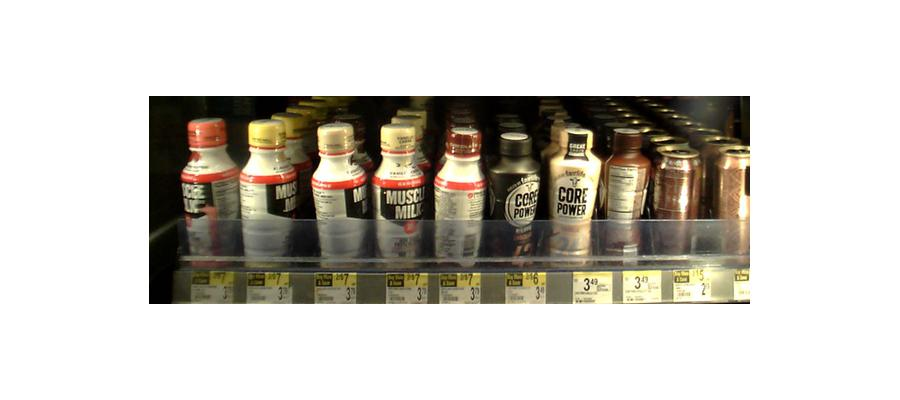bottle: (182, 119, 241, 269), (243, 118, 303, 264), (311, 123, 370, 264), (373, 120, 428, 265), (432, 119, 485, 268), (543, 126, 601, 262), (490, 128, 539, 264), (603, 123, 650, 260), (704, 133, 753, 259), (652, 142, 702, 257)
